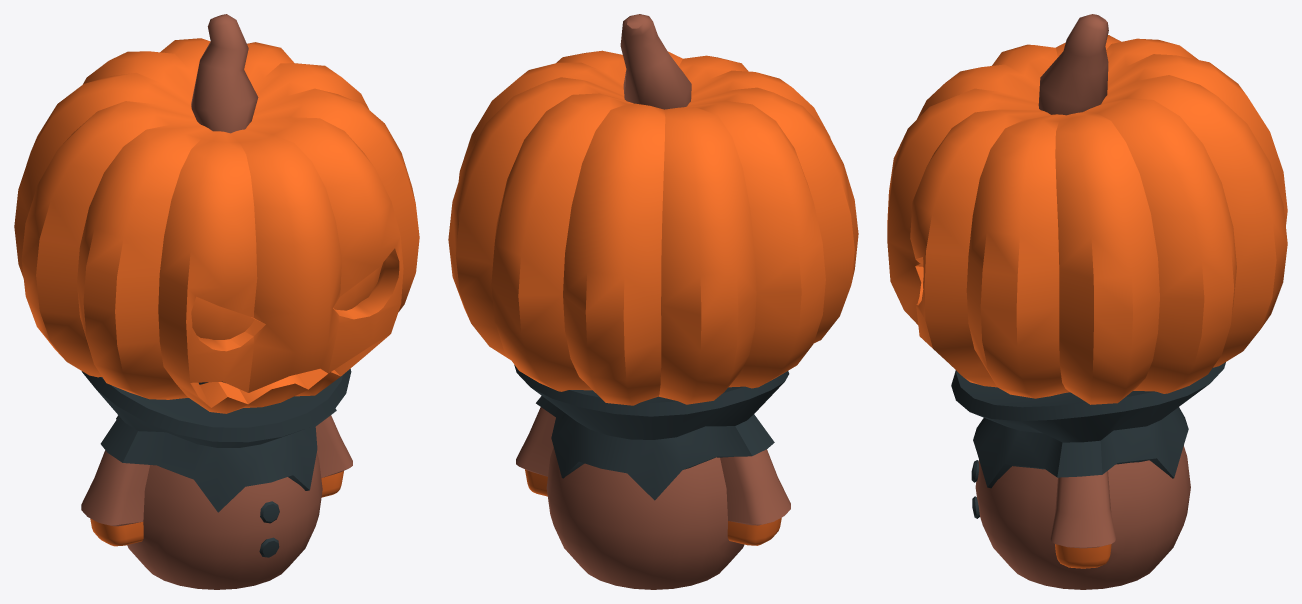
The model's file is character_jack.dae.
3 renders of one model, left to right at view 1: azimuth 30°, elevation 25°; view 2: azimuth 150°, elevation 25°; view 3: azimuth 270°, elevation 25°, orthographic.
Parts seen in each view (by area): view 1: character_jackHat, character_jack; view 2: character_jackHat, character_jack; view 3: character_jackHat, character_jack.
Part boxes in pixels (x1,y1,x2,y2): character_jackHat: [14, 14, 419, 413]; character_jack: [81, 369, 352, 589]; character_jackHat: [448, 14, 858, 405]; character_jack: [514, 365, 790, 589]; character_jackHat: [887, 14, 1287, 404]; character_jack: [951, 362, 1225, 589].
Bounding box in the file's own units: 1.34 × 1.3 × 1.96.
